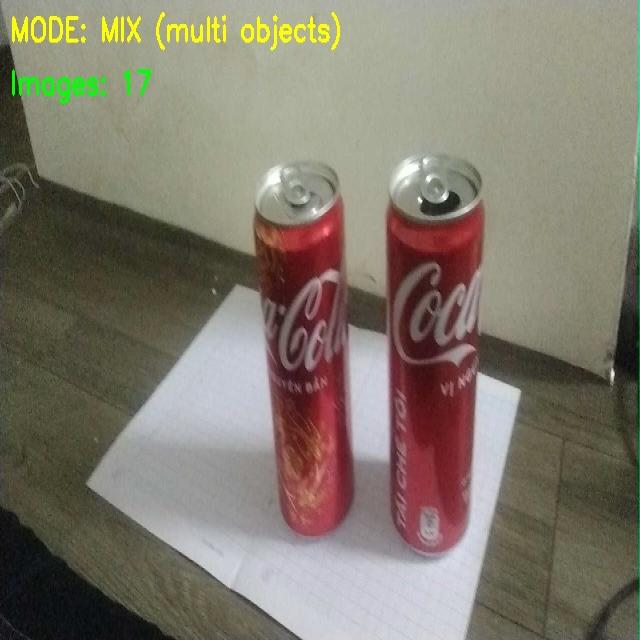Coca: (219, 135, 367, 539)
Coca_open: (385, 139, 530, 551)
